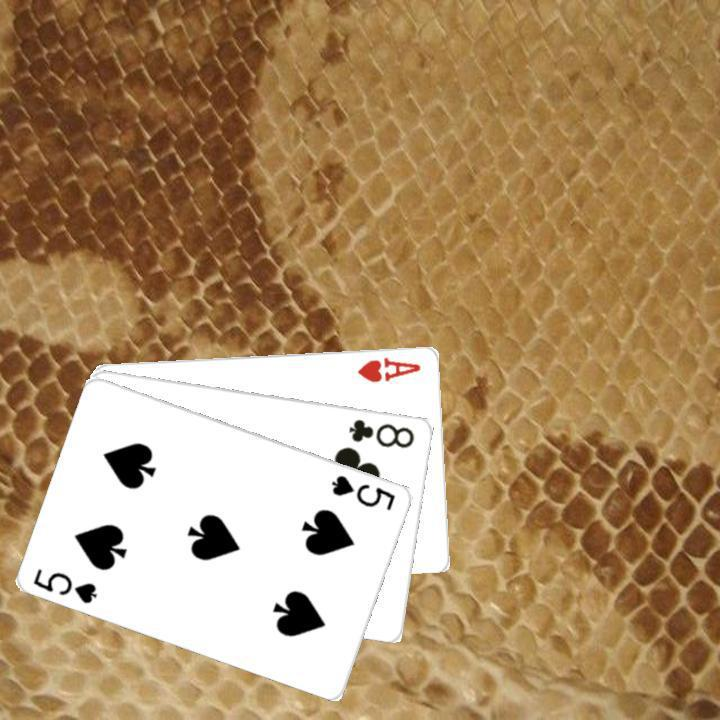5: (29, 564, 100, 606), (328, 470, 398, 512)
8: (345, 414, 417, 450)
A: (354, 352, 423, 384)
